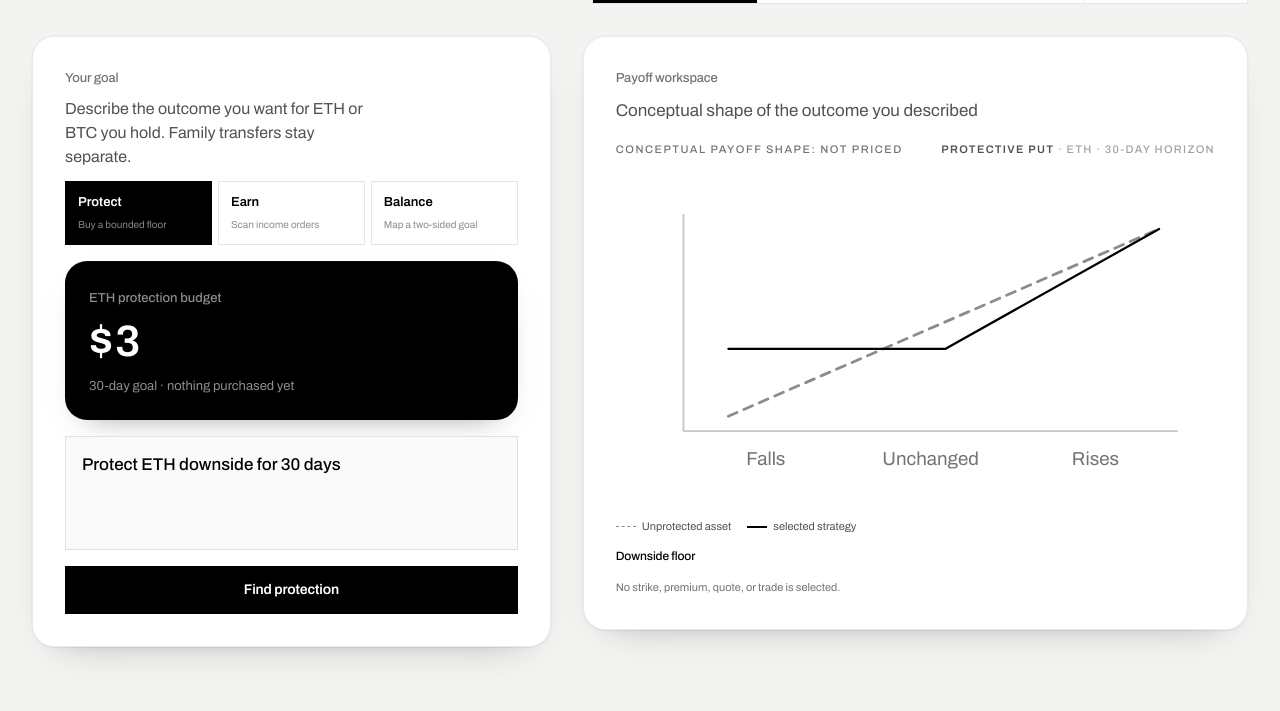
Scenario: StrategyDesk — shield live path › reveals honest review copy without implying a purchase
This screenshot has width=1280, height=711.
(page scrolled)
Submit the form named "Strategy goal", box [33,420,550,646]
(page scrolled)
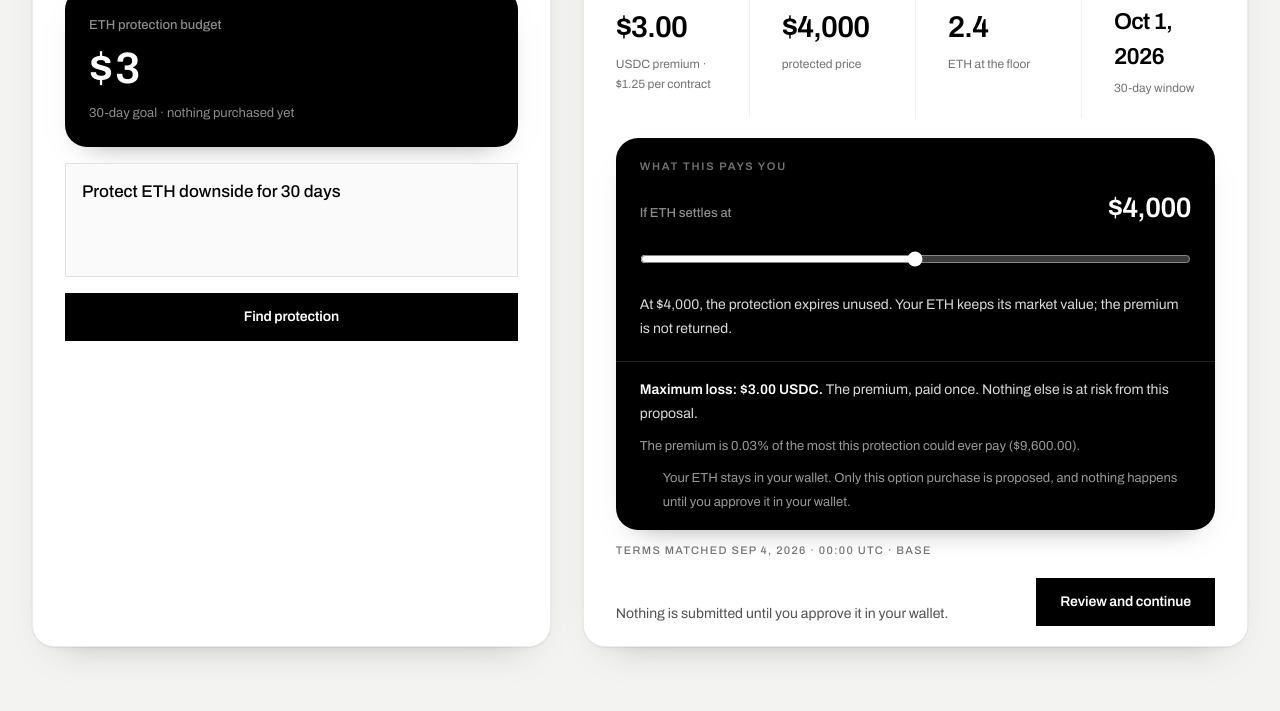
Now the button "Review and continue" is shown
Click the button "Review and continue" at [1126, 602], box [1036,578,1215,626]
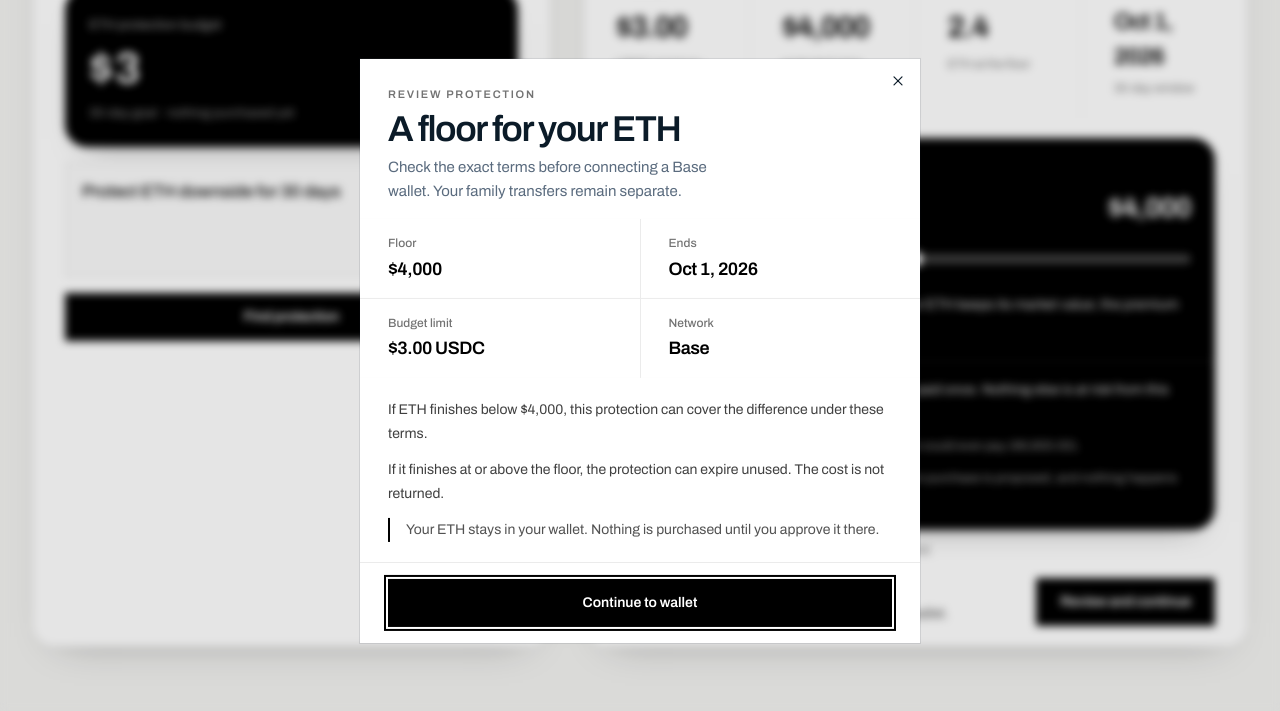
Now the heading "A floor for your ETH" is shown, box [388,109,680,149]
Now the text "family transfers remain separate" is shown, box [388,159,707,199]
Now the text "Nothing is purchased until you approve it there" is shown, box [465,522,879,537]
